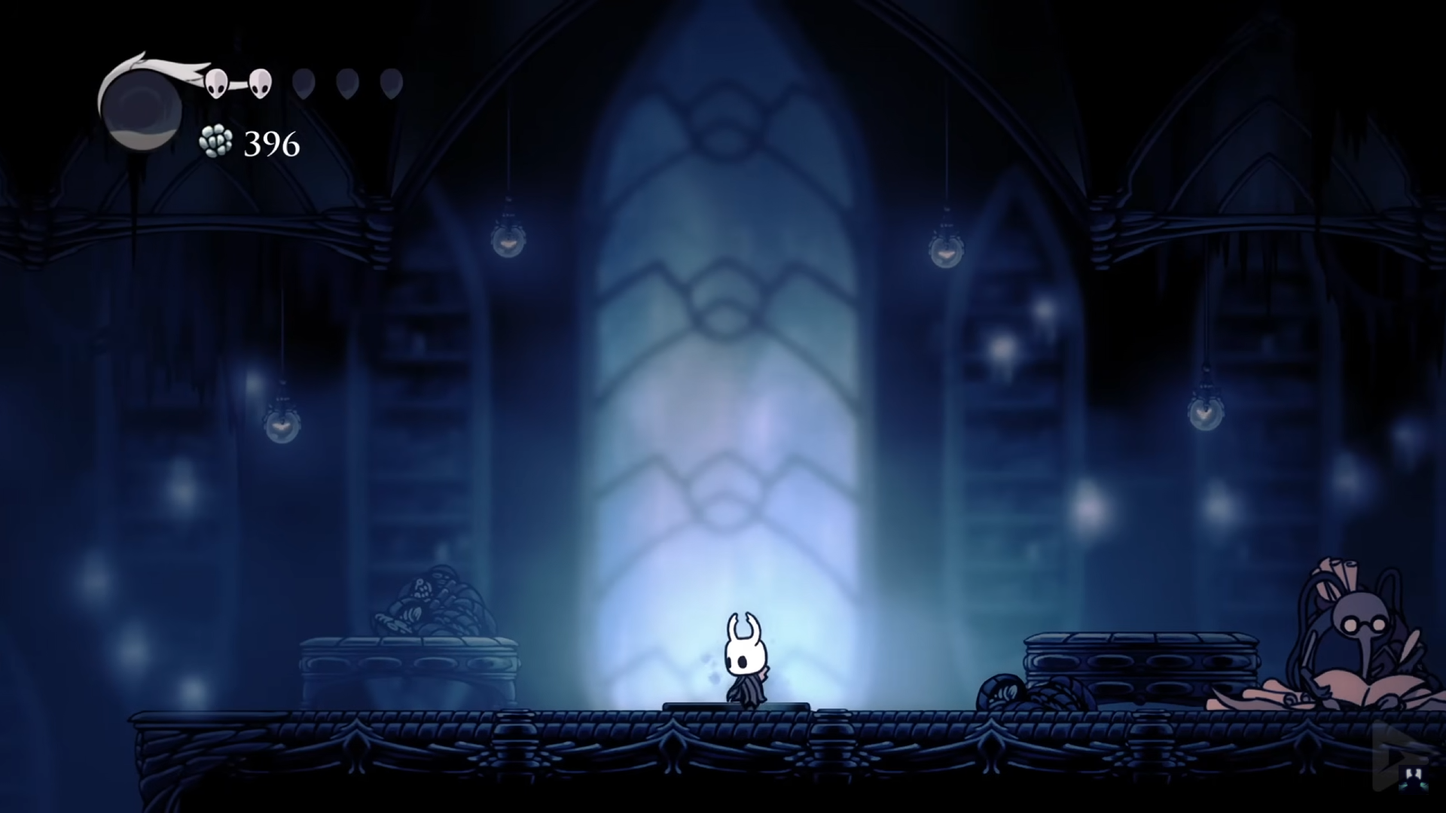HK: (715, 610, 779, 706)
